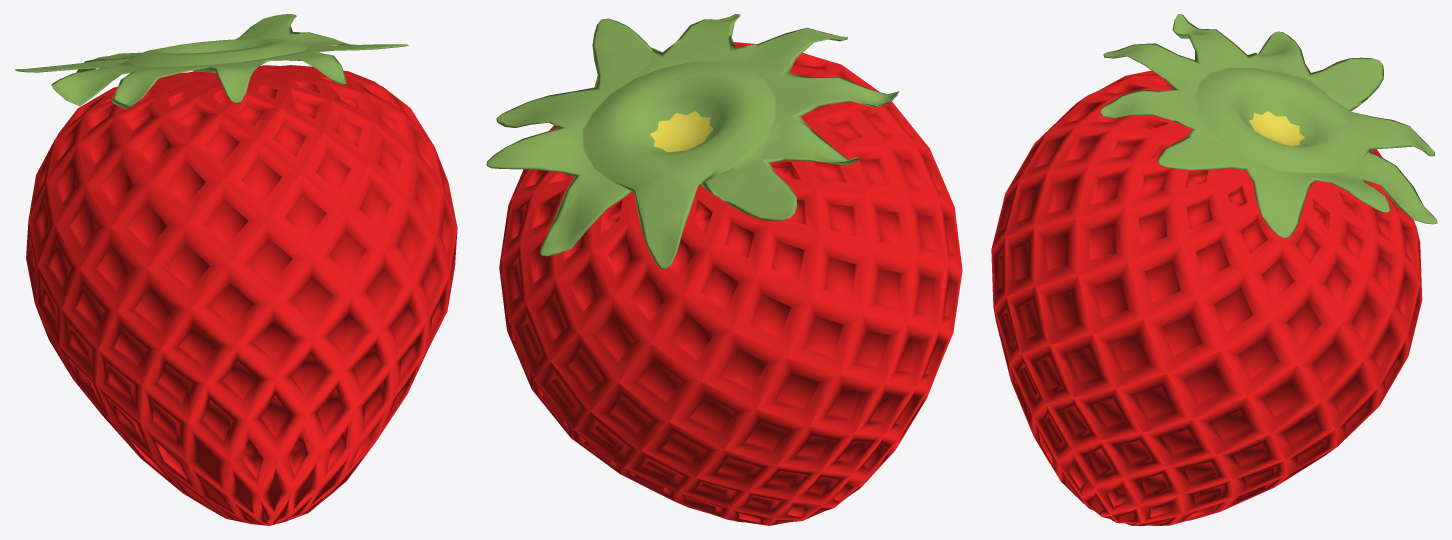
The picture shows the model from 3 angles, left to right: view 1: azimuth 30°, elevation 25°; view 2: azimuth 150°, elevation 25°; view 3: azimuth 270°, elevation 25°; orthographic projection. The views are drawn at different scales.
Parts seen in each view (by area): view 1: Circle; view 2: Circle; view 3: Circle.
Boxes of the visible parts, x1,y1,x2,y2 form: Circle: [15, 14, 457, 525]; Circle: [486, 14, 962, 525]; Circle: [991, 14, 1437, 525].
Bounding box in the file's own units: 199 × 231 × 205.
